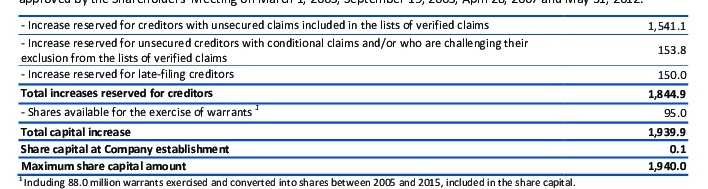table: (0, 0, 708, 189)
